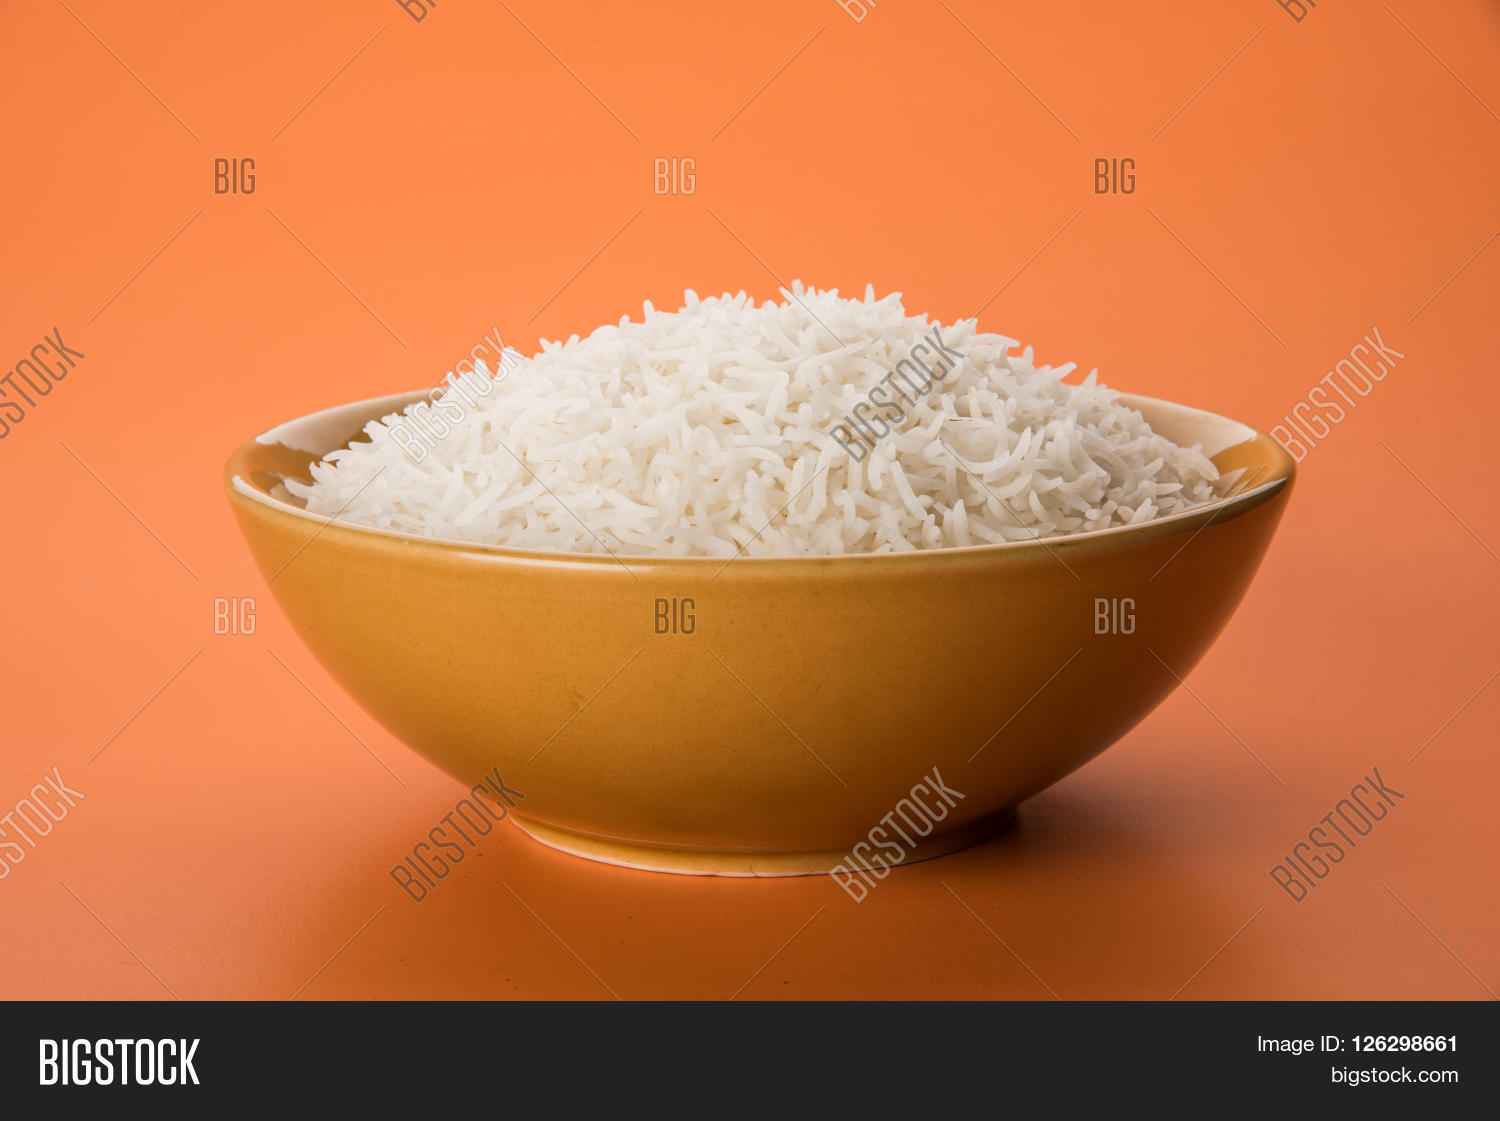plain rice: (423, 349, 1155, 540)
